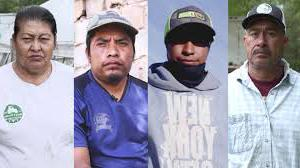mask_weared_incorrect: (168, 35, 208, 74)
without_mask: (89, 34, 132, 83), (17, 30, 51, 76), (245, 27, 279, 67)
